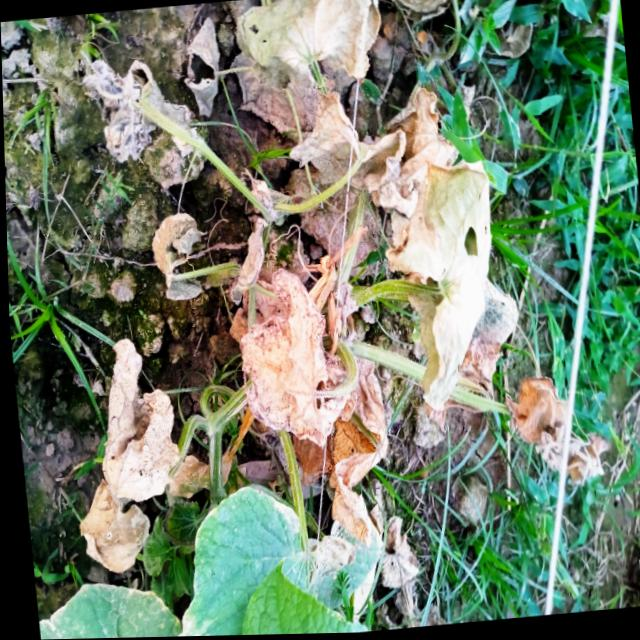Bacterial-Wilt: (228, 263, 357, 454), (88, 333, 181, 506), (233, 0, 395, 99), (76, 477, 145, 573)
